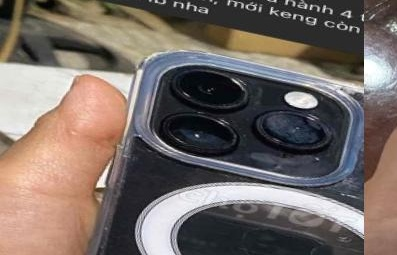scratch: (170, 81, 341, 174), (290, 69, 364, 231)
